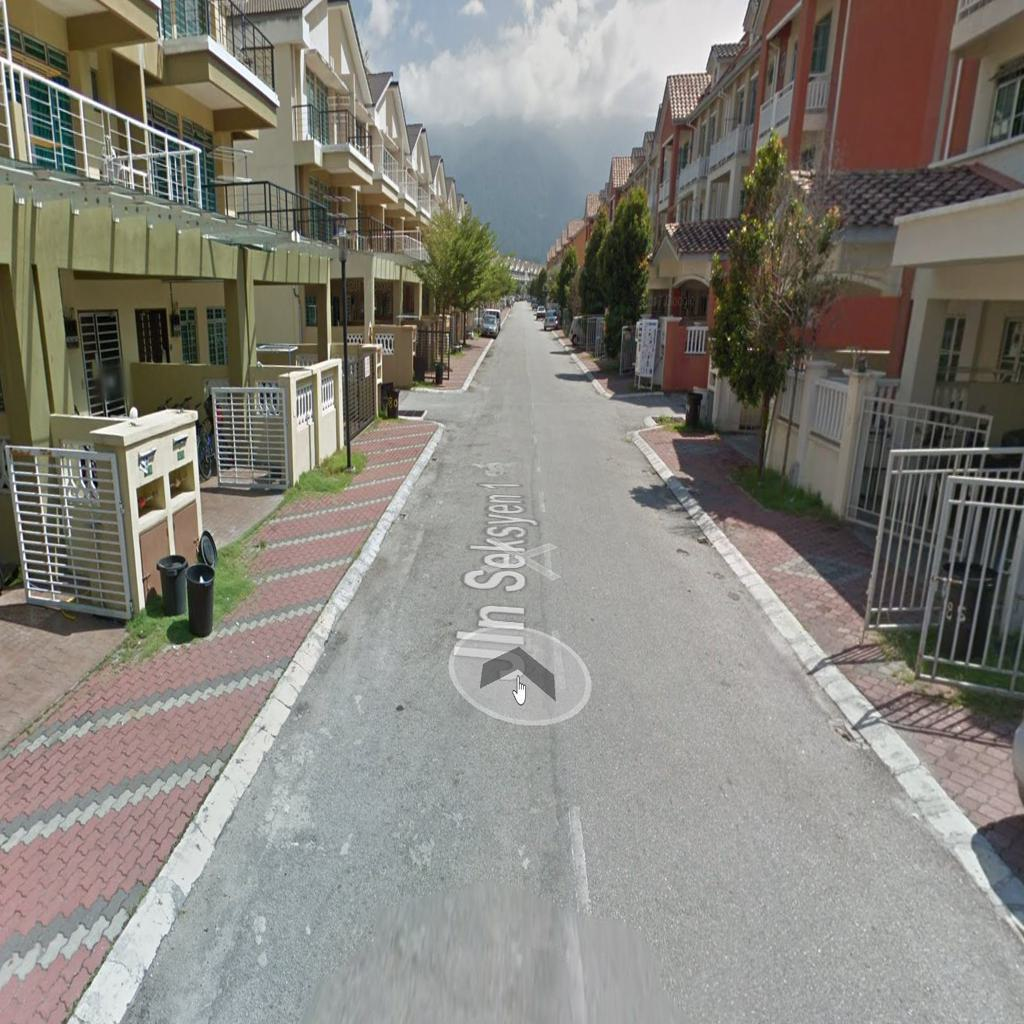Junction: (583, 367, 724, 458), (375, 353, 470, 434)
